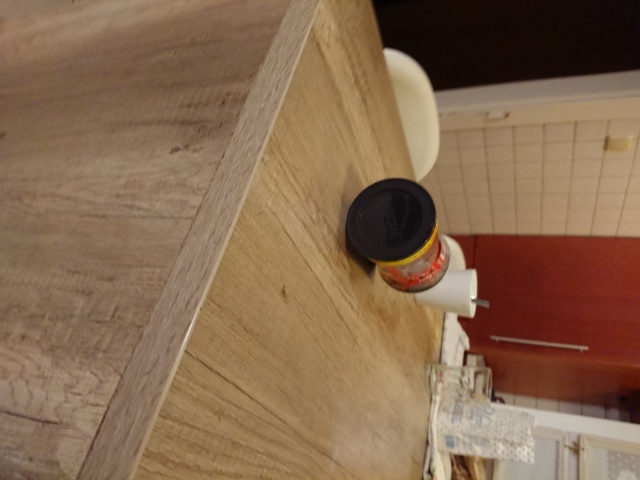Nescafe Classic 225g: (343, 175, 453, 295)
